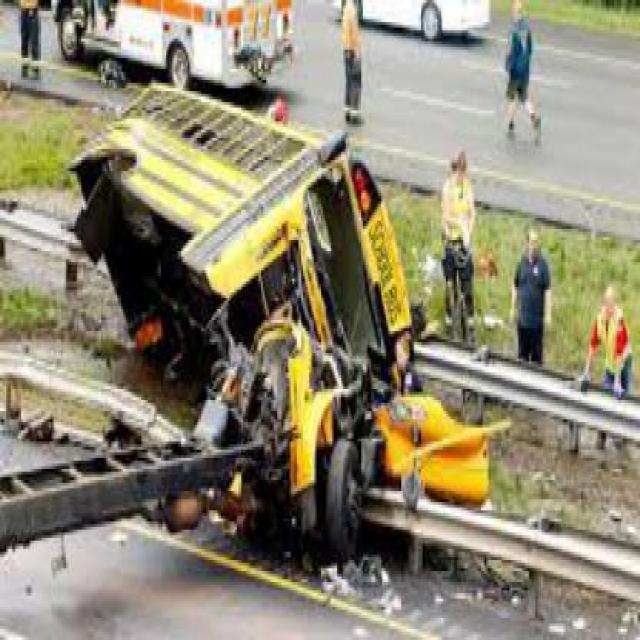accident: (63, 55, 502, 555)
